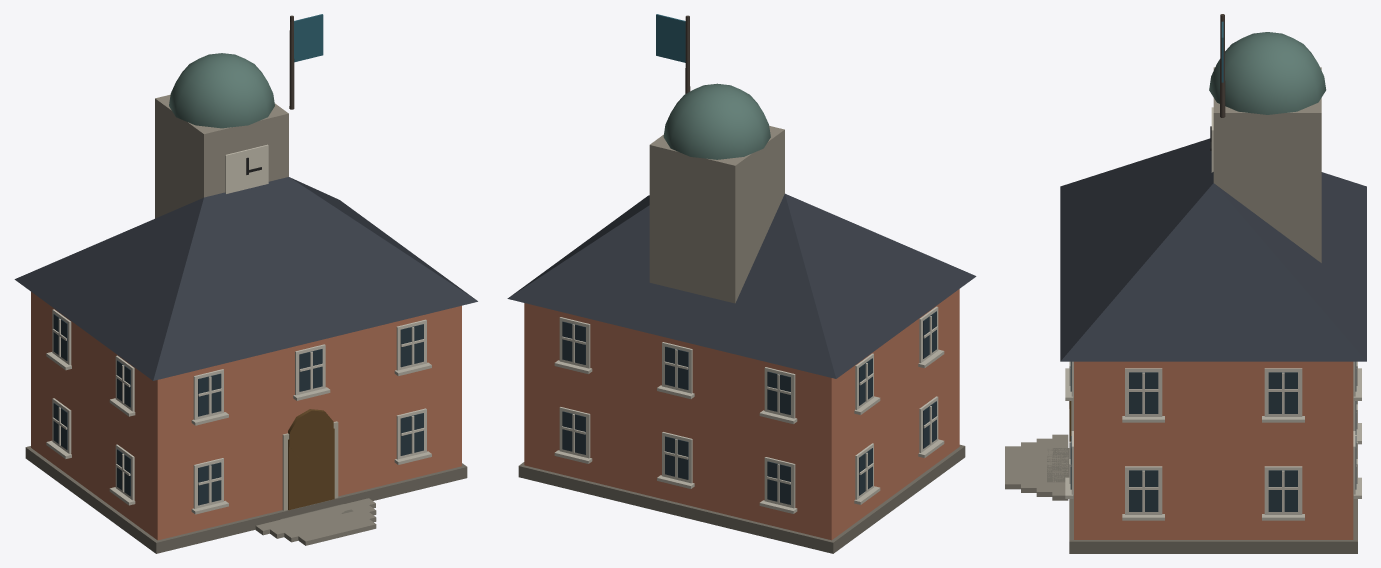
The model's file is procedural_hall@4.glb.
The picture shows the model from 3 angles, left to right: view 1: azimuth 30°, elevation 25°; view 2: azimuth 150°, elevation 25°; view 3: azimuth 270°, elevation 25°; orthographic projection. The views are drawn at different scales.
Visible parts, largest first — view 1: part_0; view 2: part_0; view 3: part_0.
Part boxes in pixels (x1,y1,x2,y2): part_0: [14, 14, 477, 553]; part_0: [507, 14, 976, 553]; part_0: [1005, 14, 1366, 553].
Size of the model in its own units: 9.2 by 11.8 by 8.03.
